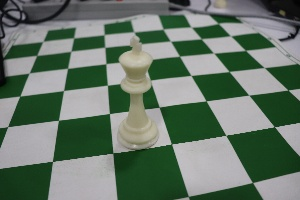white_king: (107, 25, 166, 158)
